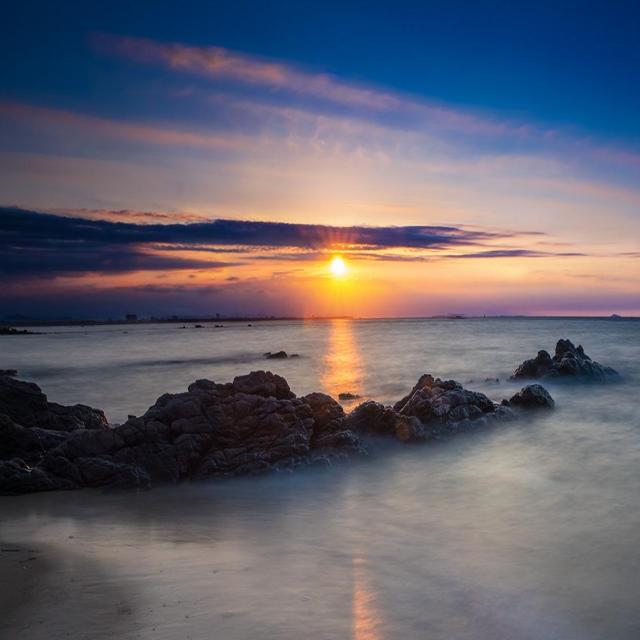reef: (0, 322, 584, 554)
